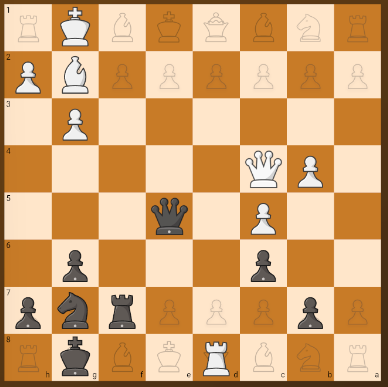bk: (57, 333, 96, 379)
bn: (56, 290, 94, 331)
bp: (6, 291, 48, 332), (54, 245, 94, 285), (244, 242, 281, 285), (292, 292, 330, 333)
bq: (148, 195, 190, 238)
br: (105, 293, 141, 331)
wb: (54, 54, 95, 96)
wk: (55, 6, 96, 49)
wp: (7, 54, 48, 97), (246, 198, 283, 236), (60, 104, 91, 143), (295, 151, 327, 188)
wq: (244, 147, 283, 187)
wr: (198, 337, 235, 378)
